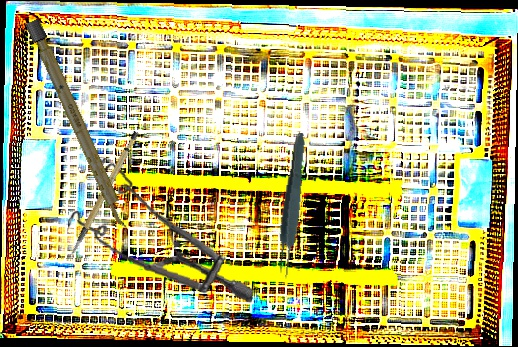Scalpel Handle: (25, 18, 131, 231), (52, 129, 154, 256)
Speculum: (62, 153, 264, 305)
Tissue Forceps: (273, 131, 310, 280)
